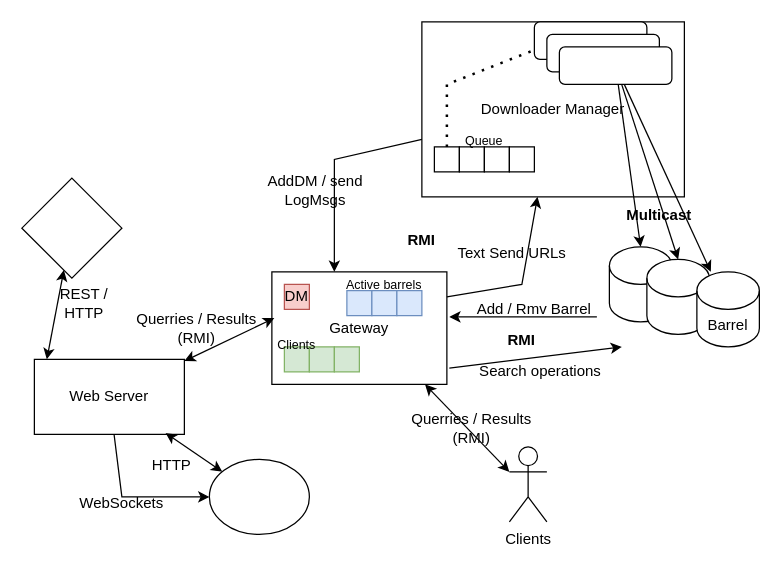
This 781x570 diagram has some shape labels left out. Here are the shapes that lost their labels. From the top down, the centre of each, then its label:
the point at 615,65: Downloader
the point at 71,227: REST API
the point at 258,496: Browser
